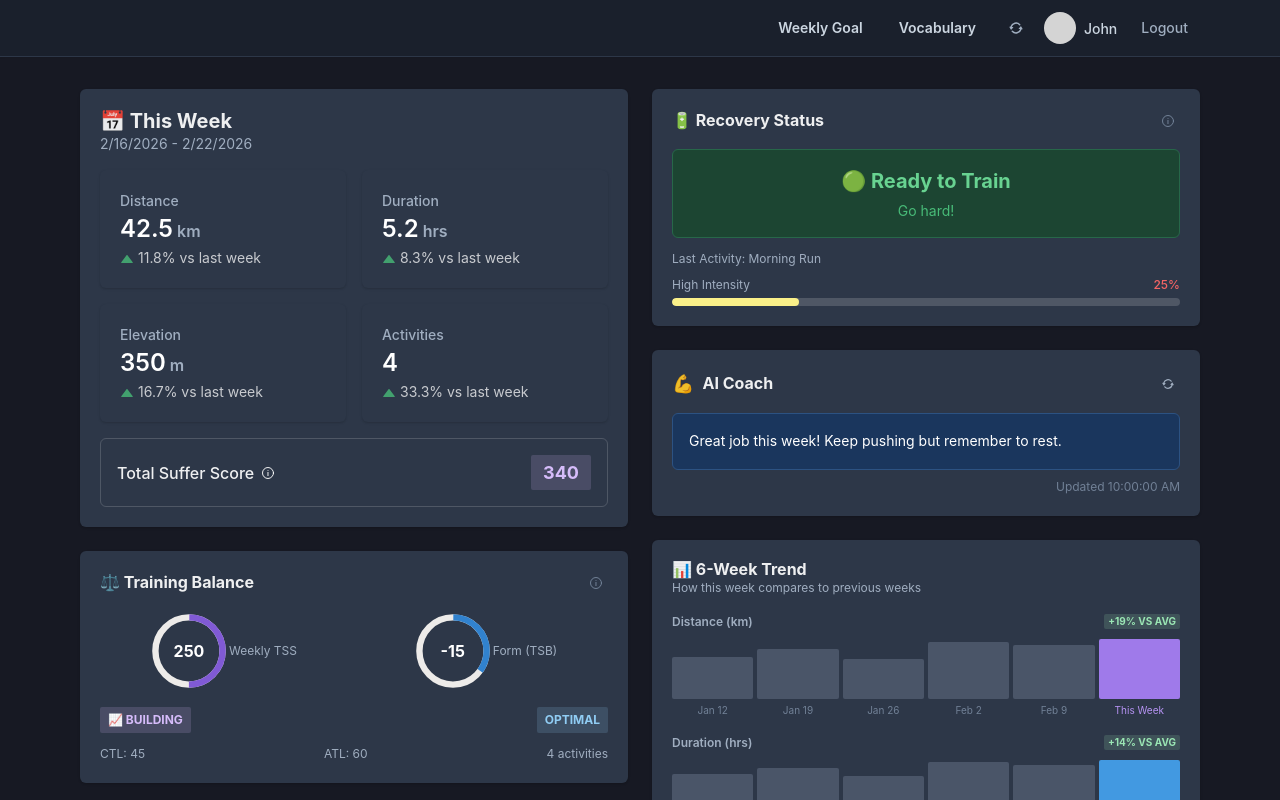
Test: Dashboard › sync functionality › shows success toast on sync
This screenshot has width=1280, height=800.
What coordinates should you click on to do the following:
click the button named "Sync activities"
I would click on:
 (1016, 28)
Its box is [1000,12,1032,44].
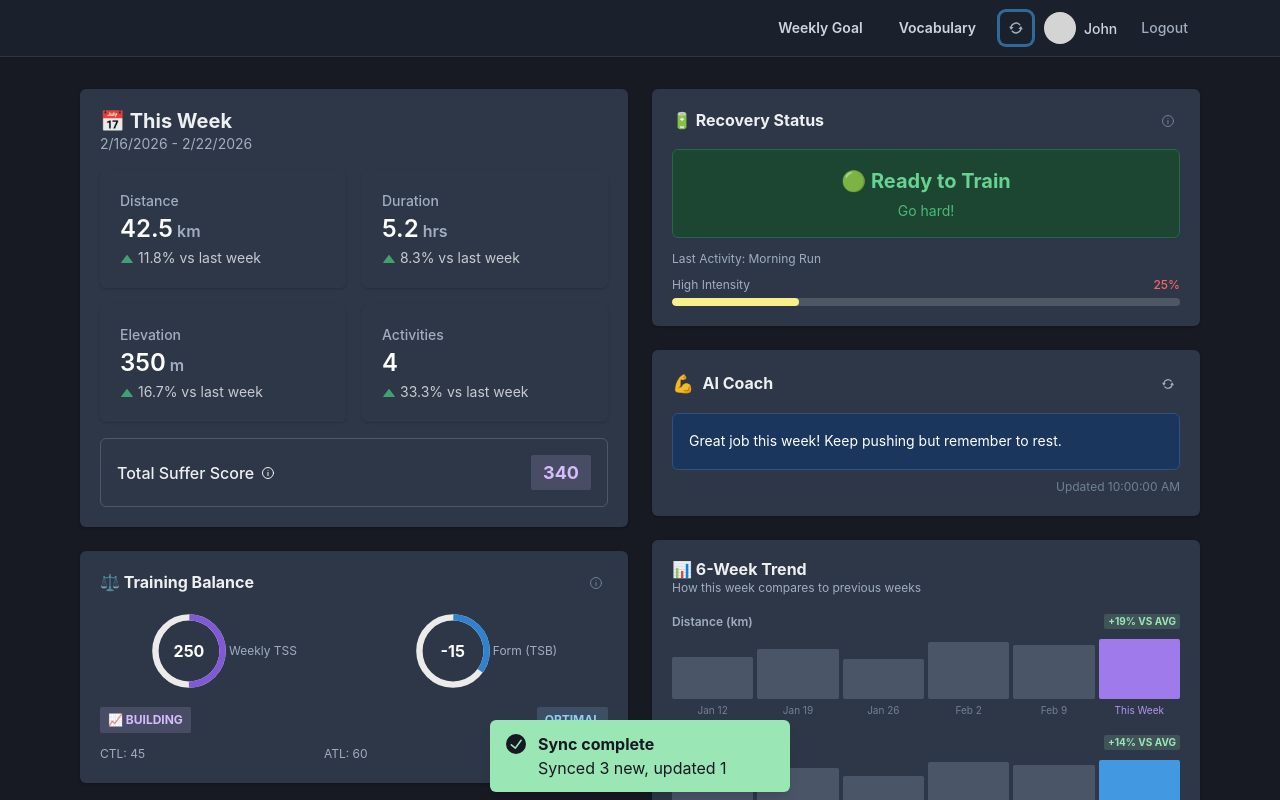
Expected: the text "Sync complete" is shown, [538,734,654,754]
